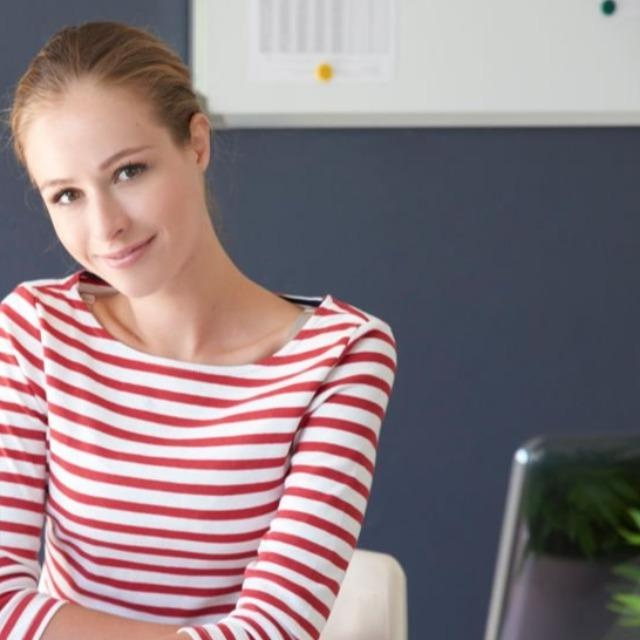Sin_Casco_Mascarrilla: (14, 20, 209, 293)
Sin_Chaleco: (0, 283, 385, 631)
